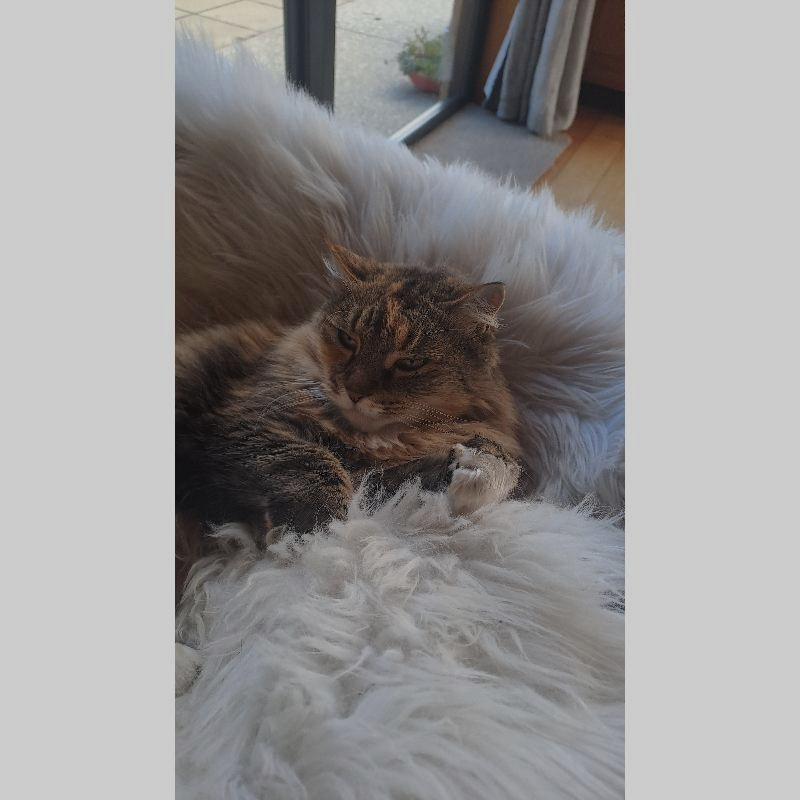yellow: (175, 238, 507, 554)
